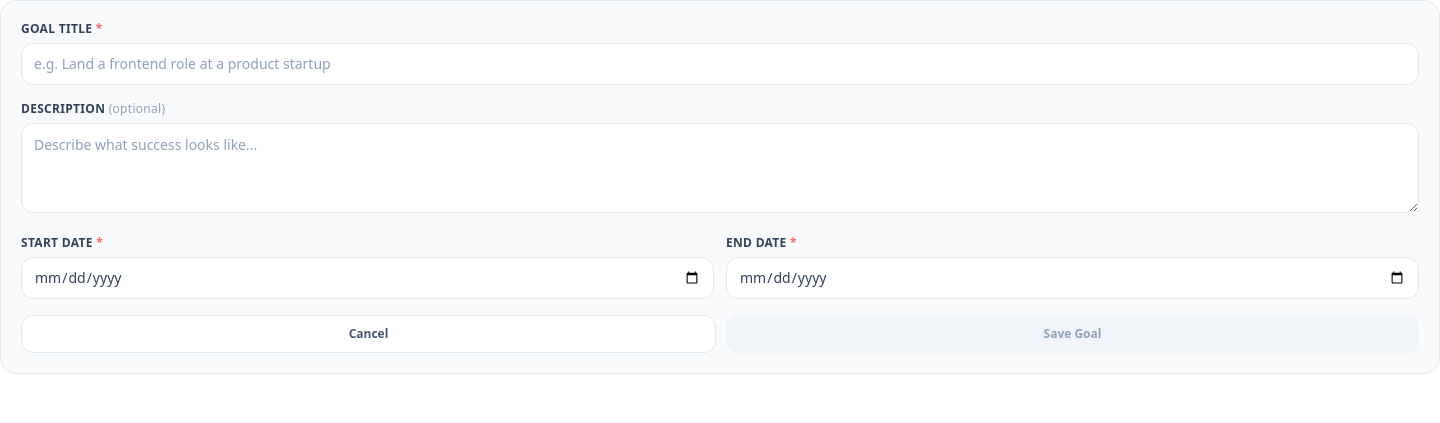
GoalForm › should display a validation message if either start date or end date fields are left empty
The image size is (1440, 423).
Type "Incomplete Date Milestone Goal" into the field labelled "Goal Title *" at x=720, y=64, box [21,43,1419,85]
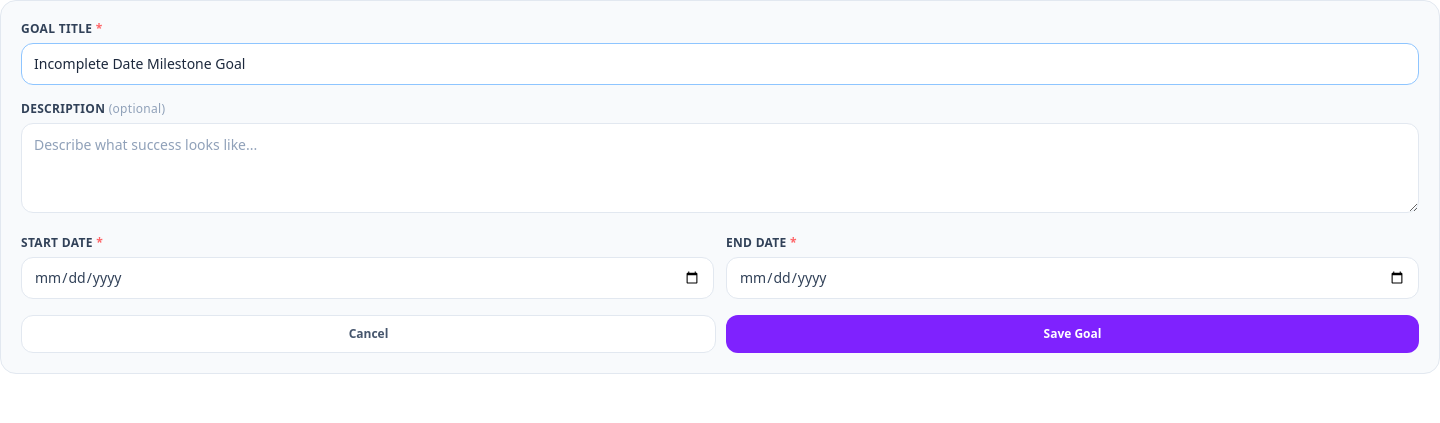
Click the button "Save Goal" at x=1072, y=334, box [726,315,1419,353]
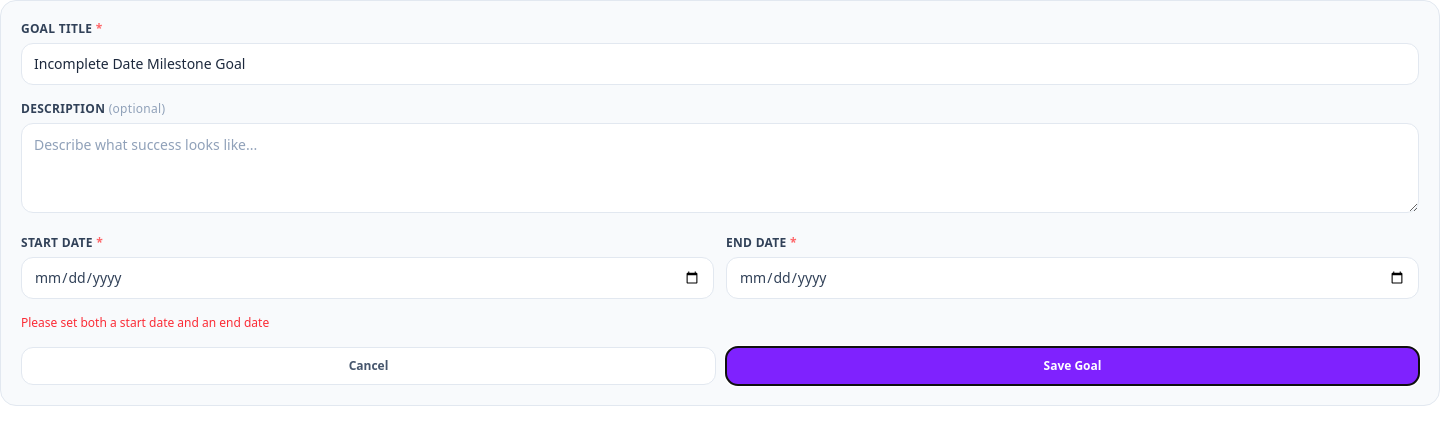
Expected: the text "Please set both a start date and an end date" is shown, [21,314,269,331]
